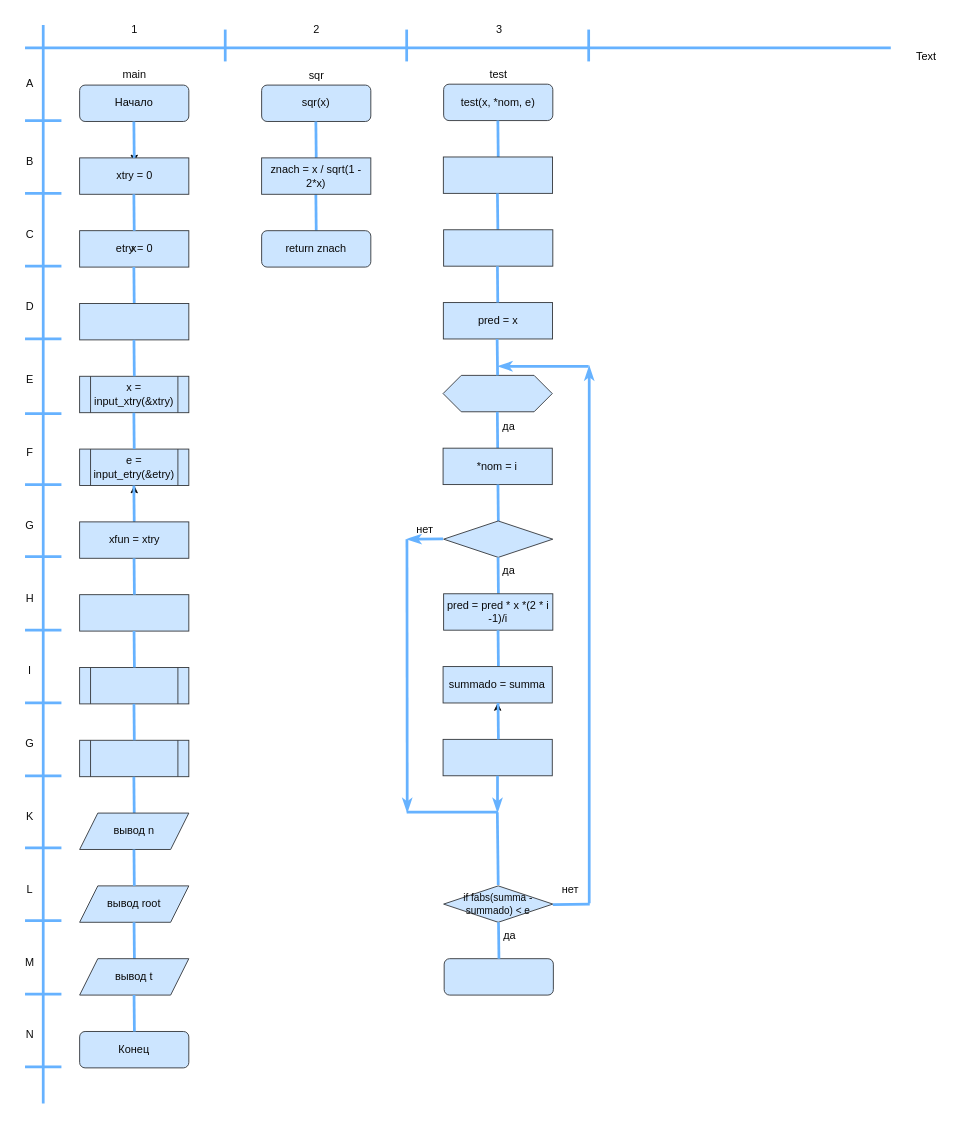
Some shapes in this 964 by 1121 pixel diagram are drawn without their labels. Each missing label, with the box of its shape:
efun = etry: (79, 594, 189, 631)
for (int i = 1; i <= INT_MAX; ++i): (442, 374, 552, 412)
if fabs(summa - summado) > e or pred == x: (443, 520, 553, 557)
nom = 1: (79, 303, 189, 340)
return summado + x и break: (443, 958, 553, 995)
root = sqr(xfun): (79, 739, 189, 777)
summa = 0: (442, 156, 553, 193)
summa = summado + pred: (442, 738, 552, 776)
summado = 0: (443, 229, 553, 266)
t = test(xfun, &nom, efun): (79, 667, 189, 704)
